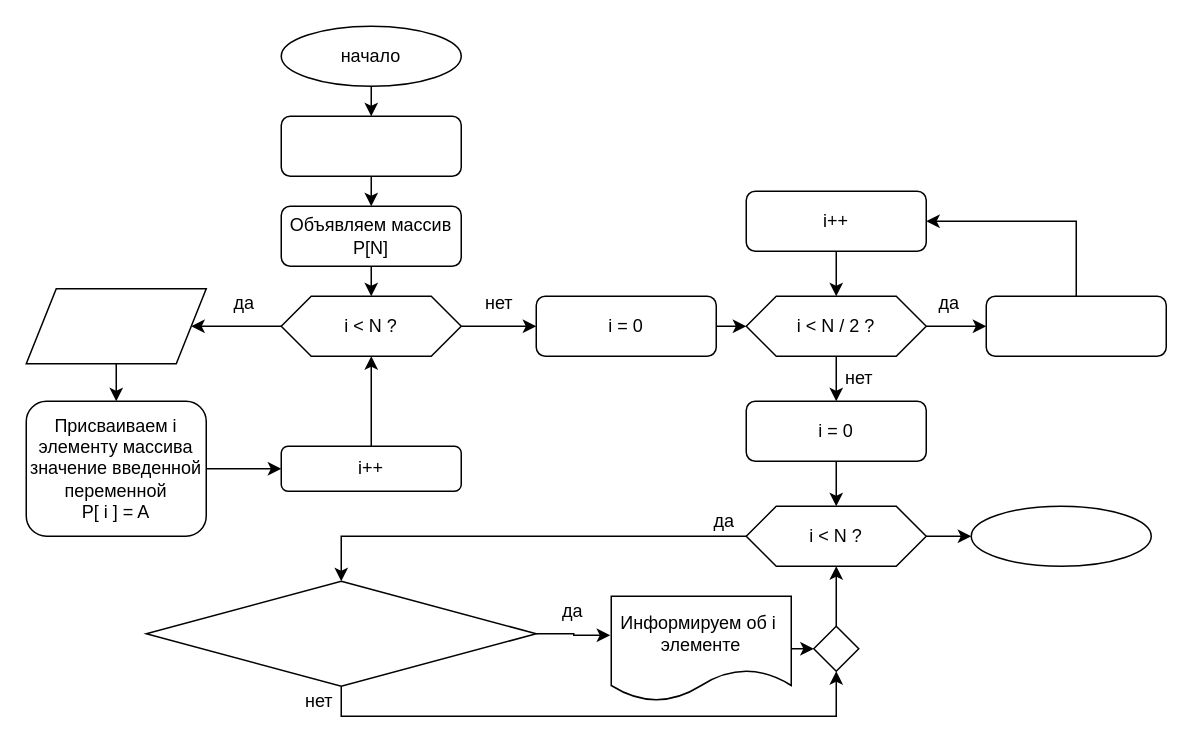
Some shapes in this 1193 by 755 pixel diagram are drawn without their labels. The shapes that lost their labels are listed below. From the top down, each one's centre as x and y in pixels, then its label:
the point at 370,145: N = 11 i = 0
the point at 115,325: вводите i-ю переменную A
the point at 1075,325: меняем местами P[ i ] и P[ N-i ]
the point at 1060,535: конец
the point at 340,633: sqrt(fabs(P[i])) + 5*pow(P[i],3) > 400 ?
